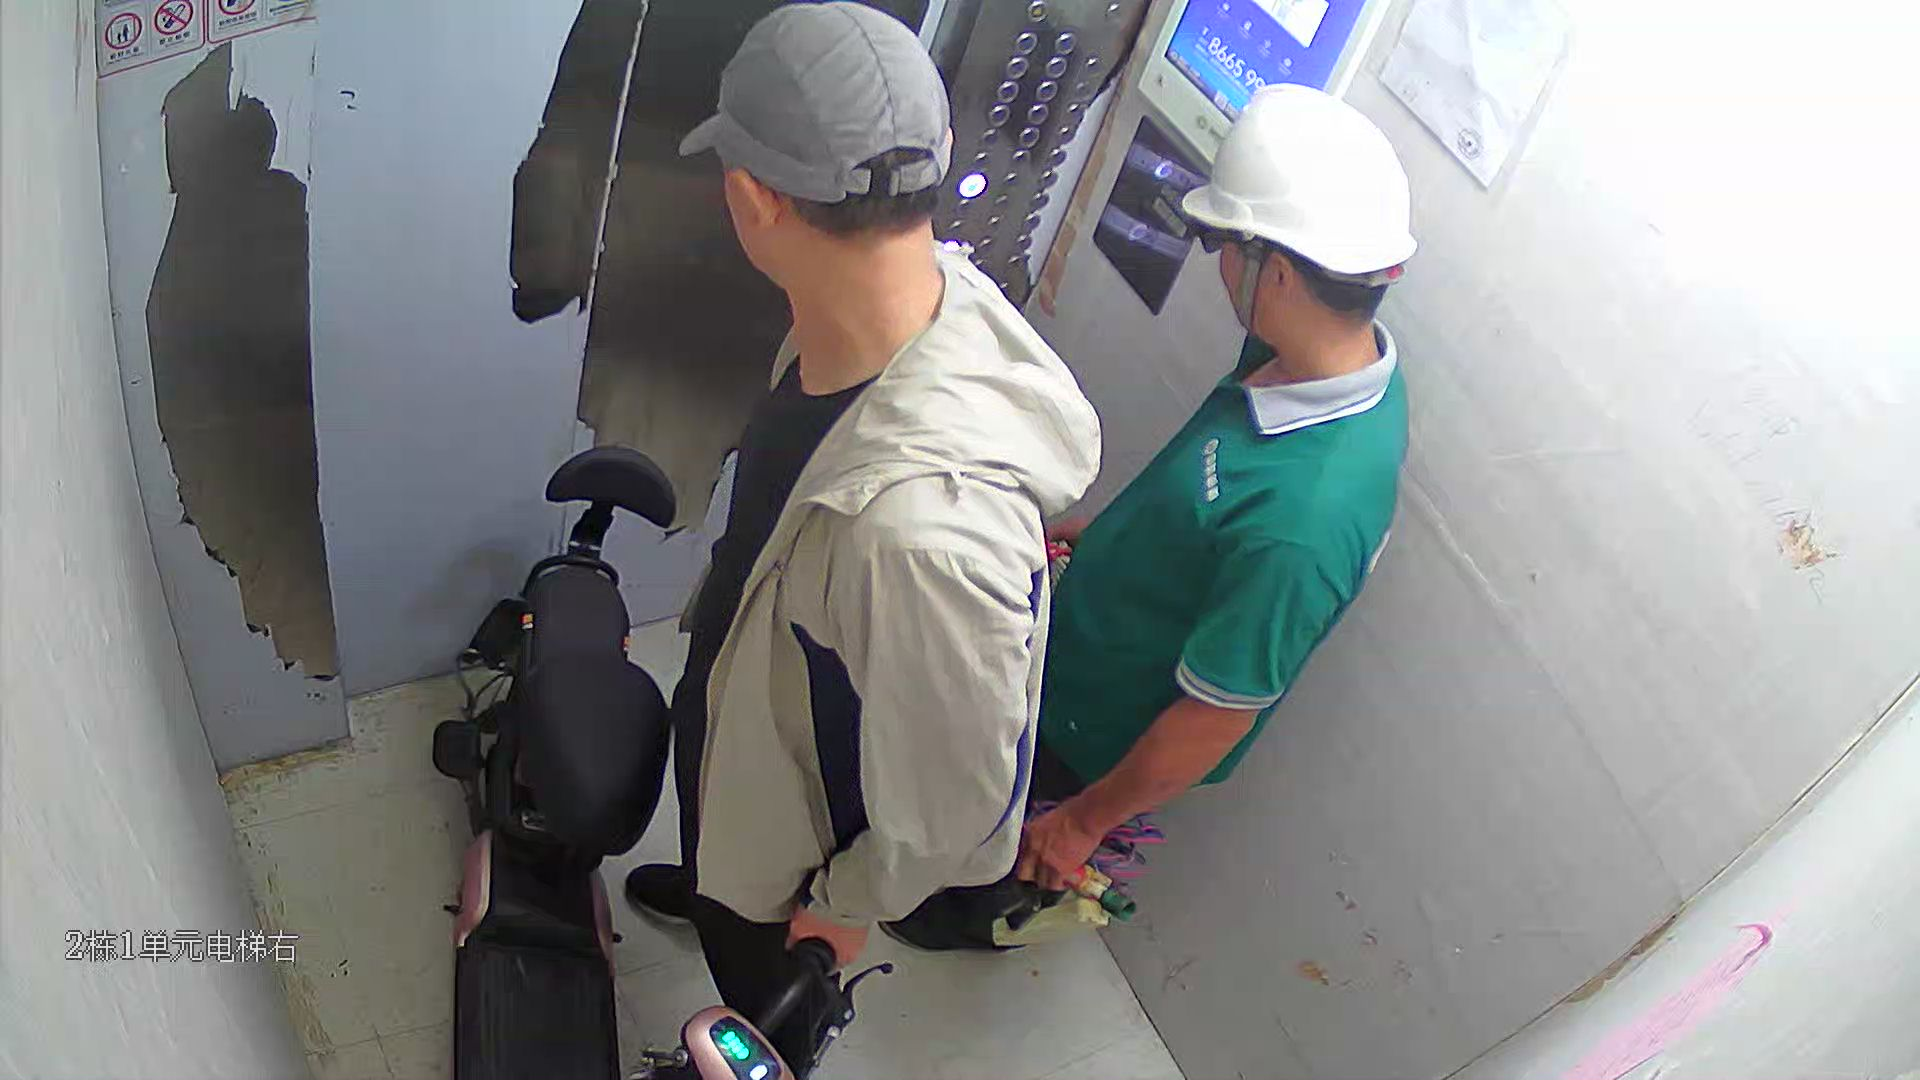Electric-bicycle: (427, 444, 890, 1080)
